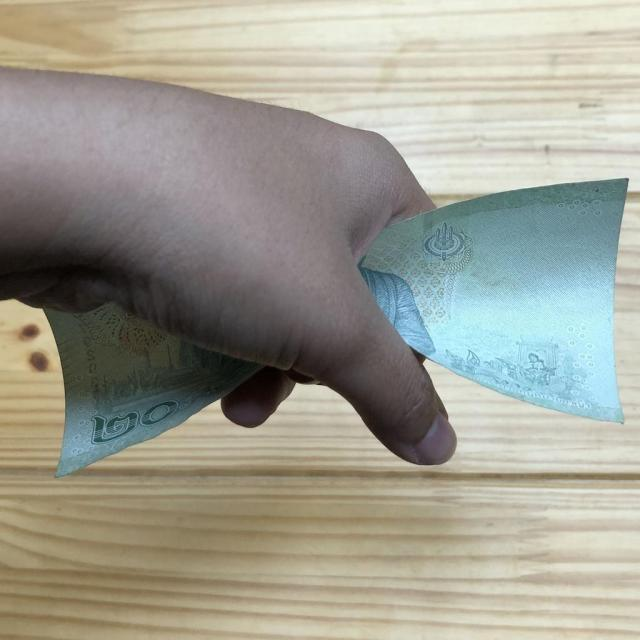THAI20: (360, 179, 628, 422), (44, 305, 258, 476)
